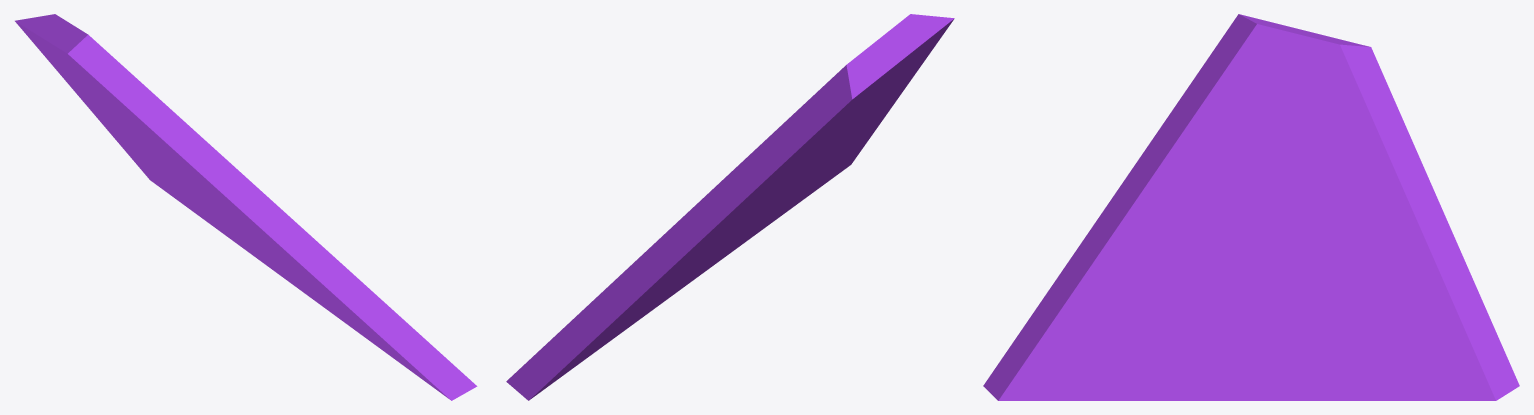
File: Window_26_5_chunks.fbx
3 renders of one model, left to right at view 1: azimuth 30°, elevation 25°; view 2: azimuth 150°, elevation 25°; view 3: azimuth 270°, elevation 25°, orthographic. The views are drawn at different scales.
Parts seen in each view (by area): view 1: Window_26_5_0; view 2: Window_26_5_0; view 3: Window_26_5_0.
Boxes of the visible parts, x1,y1,x2,y2 form: Window_26_5_0: (15,14,477,400); Window_26_5_0: (506,14,954,400); Window_26_5_0: (983,14,1519,400).
Size of the model in its own units: 223 by 237 by 425.
